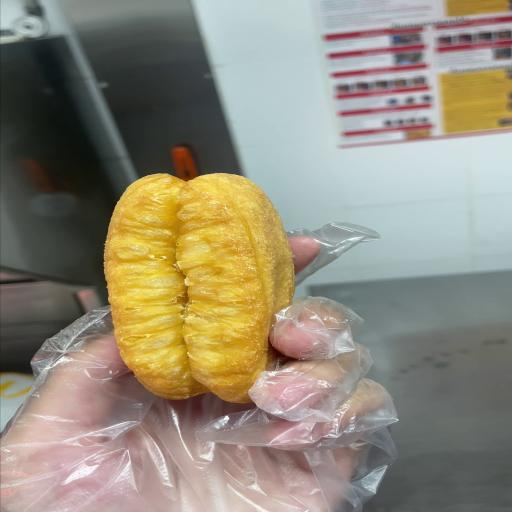brand_golden_good: (104, 173, 294, 403)
